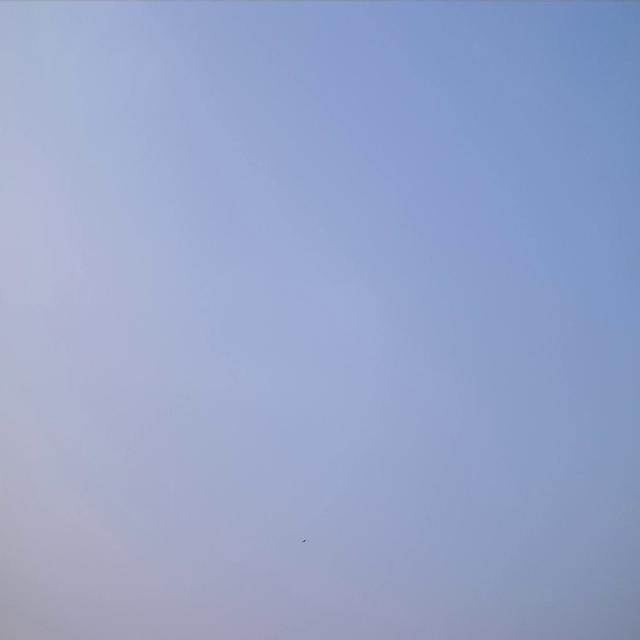UAV: (302, 538, 306, 543)
